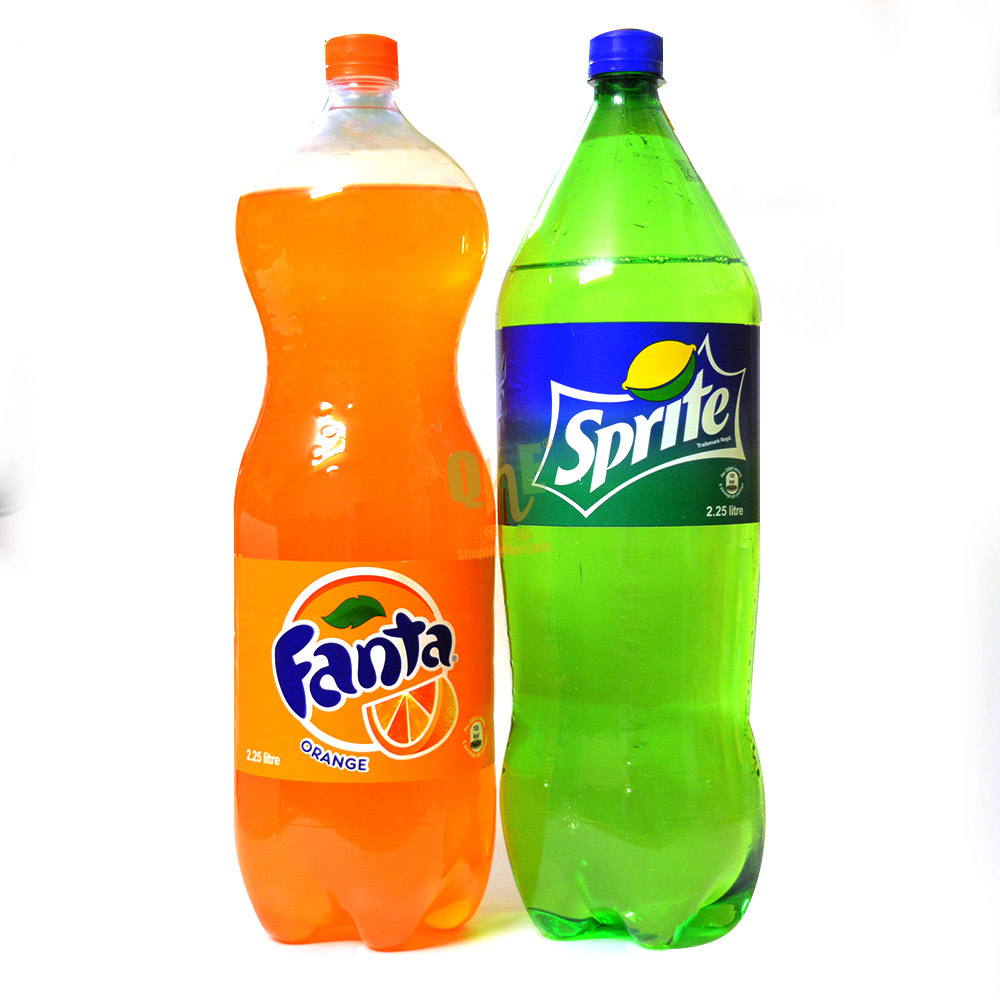sprite: (556, 366, 729, 489), (556, 370, 729, 489)
